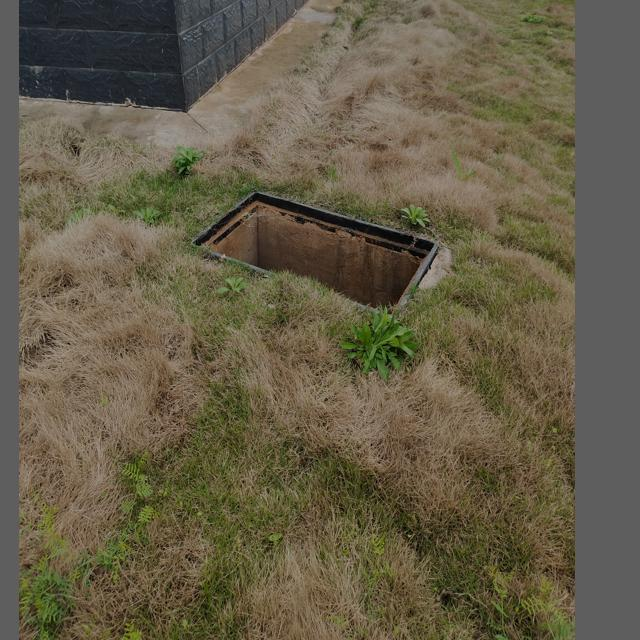lose: (183, 190, 438, 315)
